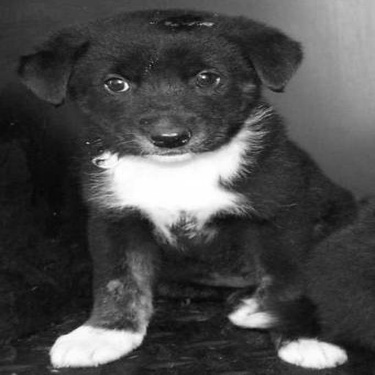dog: (8, 9, 373, 371), (287, 178, 370, 354)
